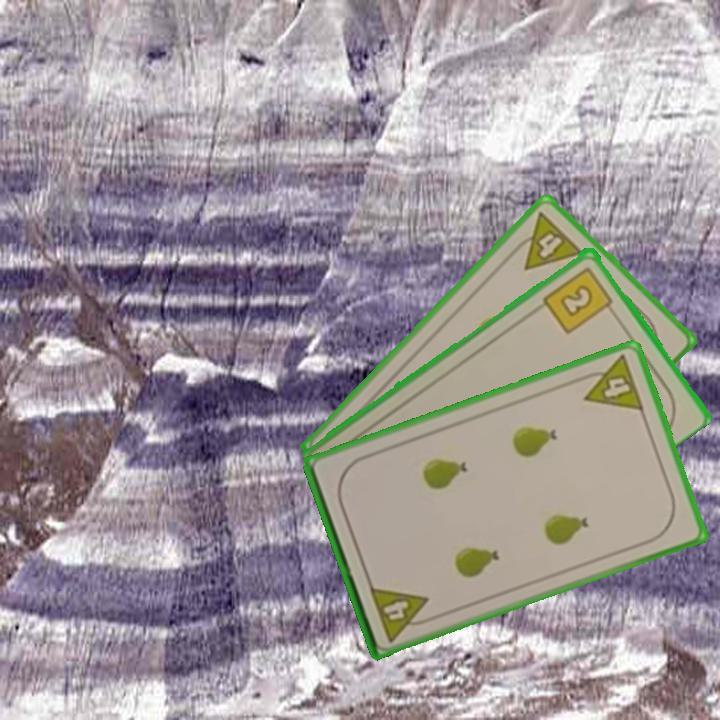2b: (539, 263, 619, 336)
4p: (506, 208, 587, 273), (574, 351, 647, 414), (366, 582, 437, 645)
